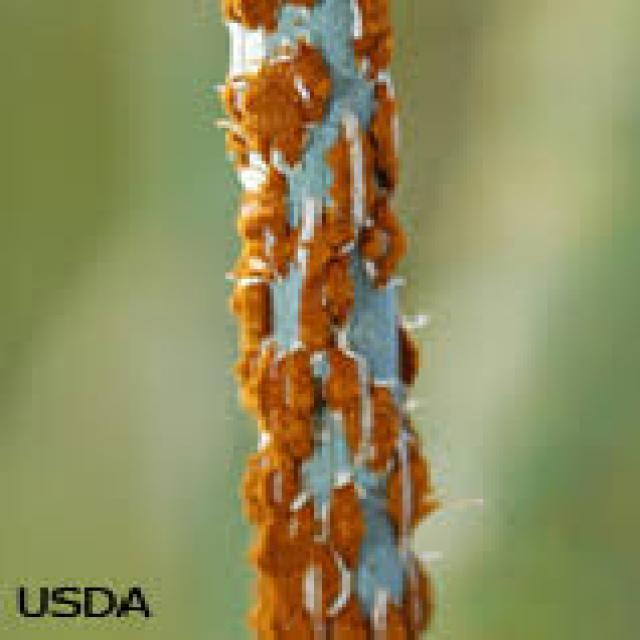wheat-stemrust: (213, 0, 443, 640)
